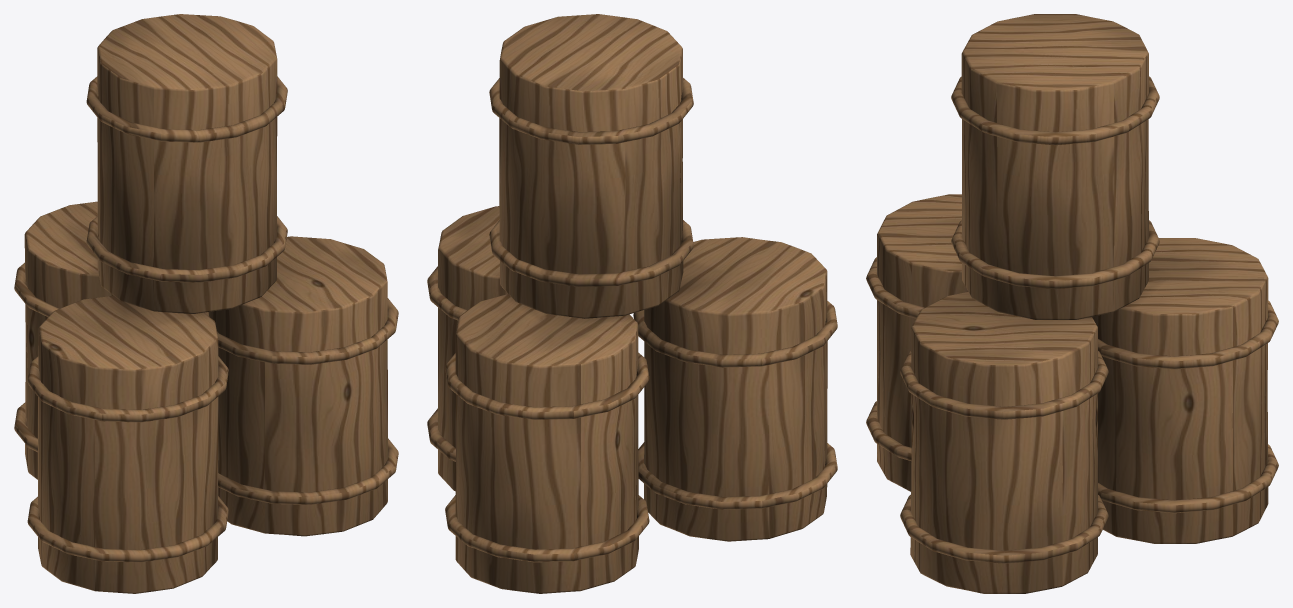
The model's file is p_barrels.glb.
The picture shows the model from 3 angles, left to right: view 1: azimuth 30°, elevation 25°; view 2: azimuth 150°, elevation 25°; view 3: azimuth 270°, elevation 25°; orthographic projection. The views are drawn at different scales.
Parts seen in each view (by area): view 1: barrels; view 2: barrels; view 3: barrels.
Part boxes in pixels (x1,y1,x2,y2): barrels: [14, 14, 398, 593]; barrels: [427, 14, 837, 593]; barrels: [866, 14, 1278, 593].
Size of the model in its own units: 1.52 by 1.8 by 1.46.
Materials: 1 (1 with a texture image).
